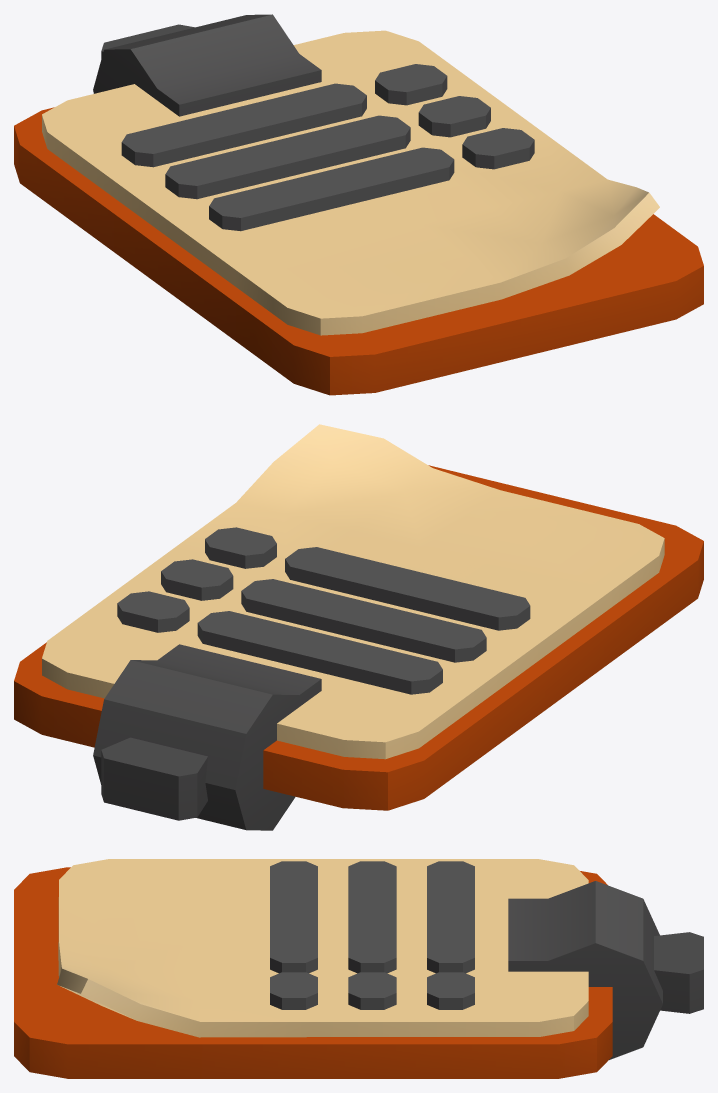
The model's file is Food_Menu_01.fbx.
3 views of the same model, one above another, from view 1: azimuth 30°, elevation 25°; view 2: azimuth 150°, elevation 25°; view 3: azimuth 270°, elevation 25° (orthographic). The views are drawn at different scales.
Parts seen in each view (by area): view 1: Food_Menu_01; view 2: Food_Menu_01; view 3: Food_Menu_01.
Boxes of the visible parts, left/top/right/bottom form: Food_Menu_01: left=14, top=14, right=703, bottom=395; Food_Menu_01: left=14, top=424, right=703, bottom=830; Food_Menu_01: left=14, top=859, right=703, bottom=1078.
Size of the model in its own units: 70 by 23.48 by 115.
